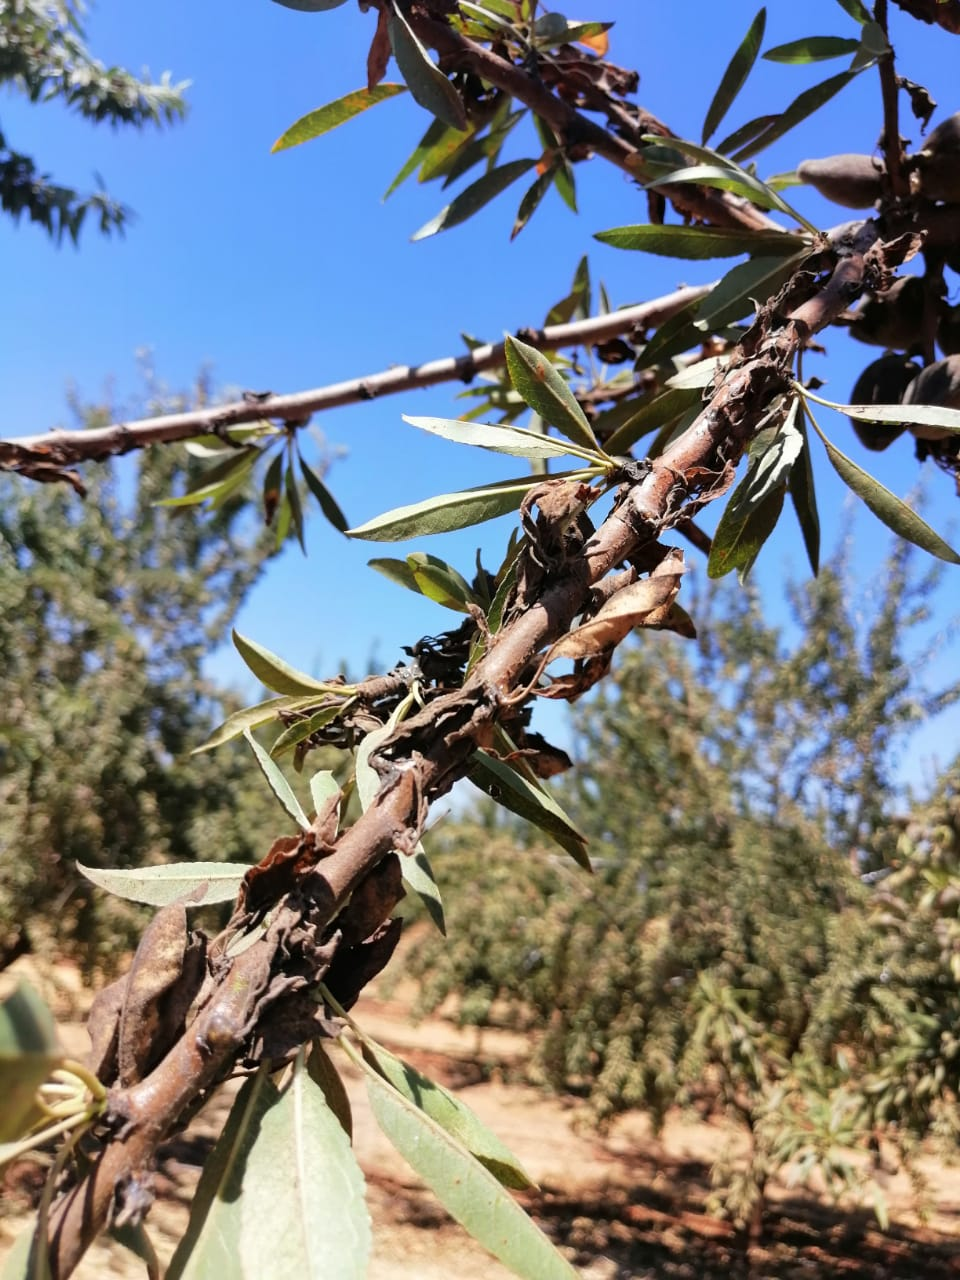scolytes: (110, 275, 825, 1103)
